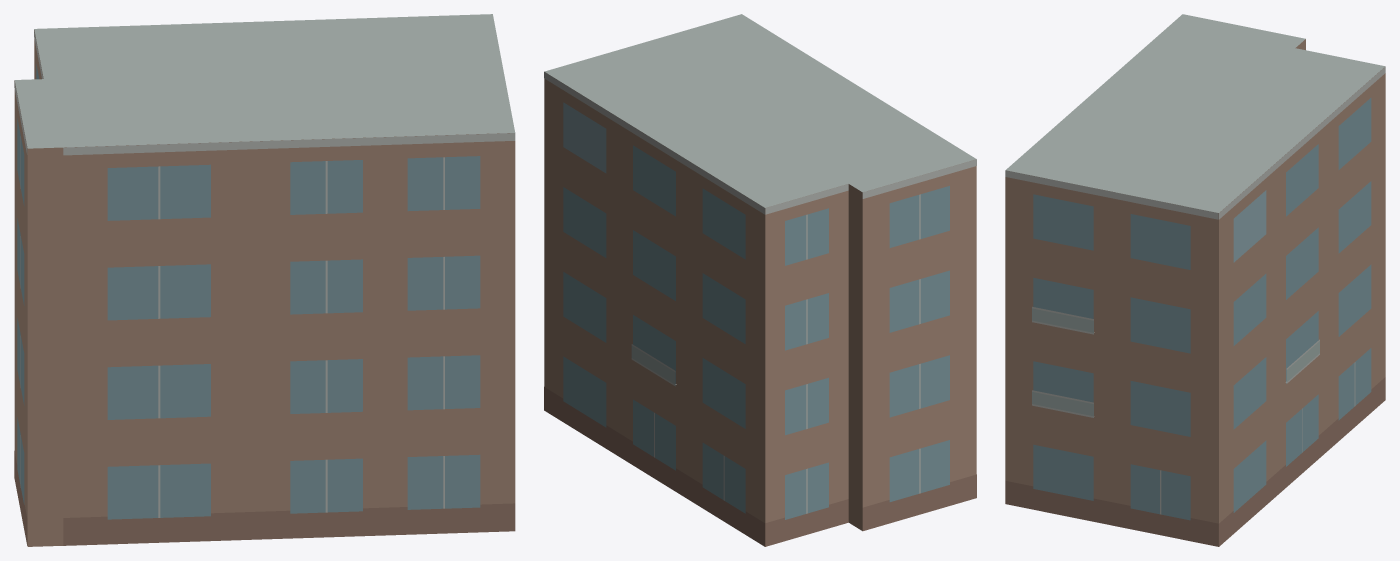
The model's file is survey-upis-33036657.glb.
3 views of the same model, side by side, from view 1: azimuth 30°, elevation 25°; view 2: azimuth 150°, elevation 25°; view 3: azimuth 270°, elevation 25° (orthographic). The views are drawn at different scales.
Parts seen in each view (by area): view 1: survey-upis-33036657.tmp; view 2: survey-upis-33036657.tmp; view 3: survey-upis-33036657.tmp.
Part boxes in pixels (left/top/right/bottom): survey-upis-33036657.tmp: left=14, top=14, right=515, bottom=546; survey-upis-33036657.tmp: left=544, top=14, right=976, bottom=546; survey-upis-33036657.tmp: left=1005, top=14, right=1385, bottom=546.
Bounding box in the file's own units: 15.61 × 12.2 × 12.6.
